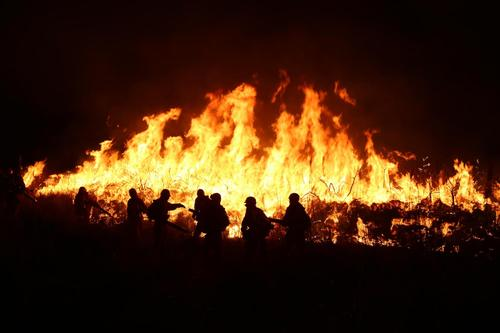fire: (35, 87, 482, 203), (24, 162, 42, 186), (391, 215, 428, 225), (356, 217, 367, 245), (228, 223, 240, 237), (440, 220, 450, 233)
